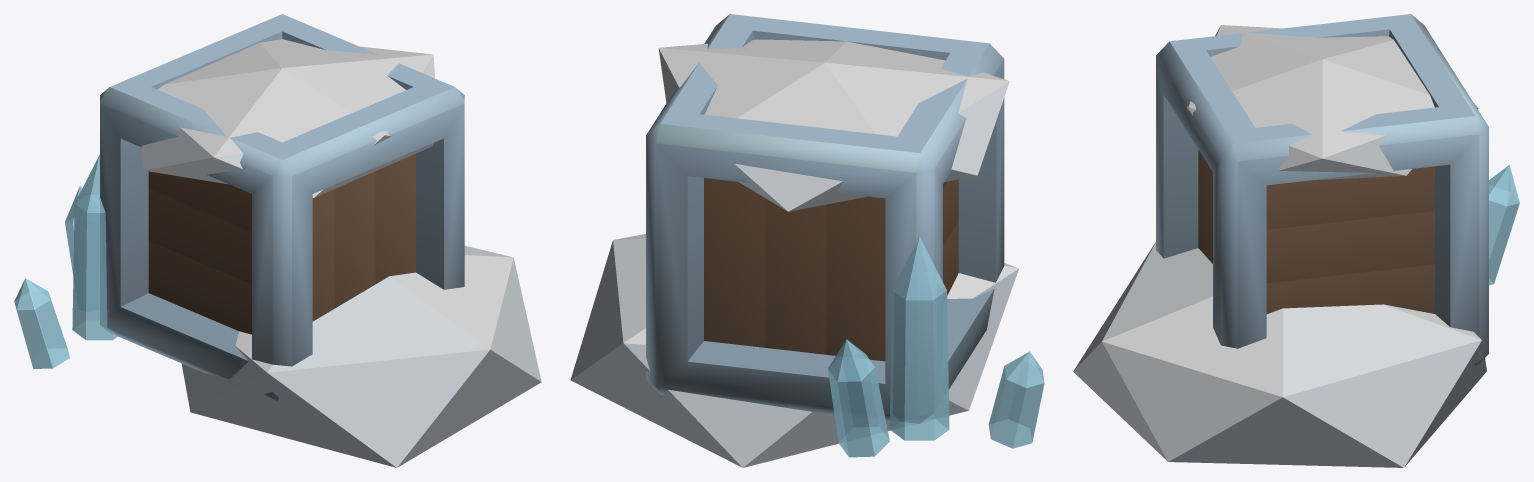
The model's file is decor_3.fbx.
3 renders of one model, left to right at view 1: azimuth 30°, elevation 25°; view 2: azimuth 150°, elevation 25°; view 3: azimuth 270°, elevation 25°, orthographic. The views are drawn at different scales.
Parts seen in each view (by area): view 1: decor_3; view 2: decor_3; view 3: decor_3.
Part boxes in pixels (x1,y1,x2,y2): decor_3: (14, 14, 541, 467); decor_3: (570, 14, 1044, 467); decor_3: (1073, 14, 1519, 467).
Bounding box in the file's own units: 1.32 × 1.01 × 1.13.
